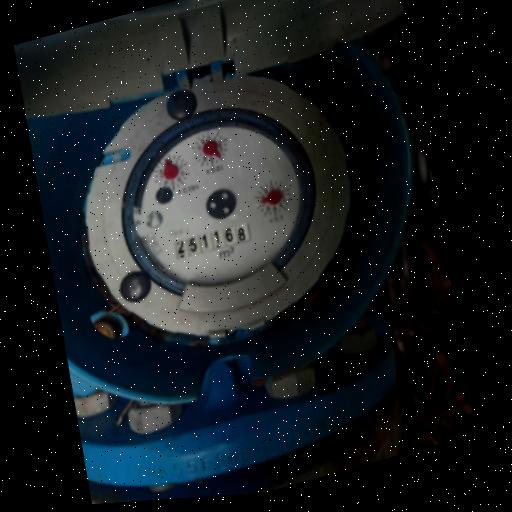1: (210, 228, 225, 248), (199, 233, 213, 252)
2: (174, 238, 190, 258)
5: (186, 234, 202, 255)
6: (223, 226, 239, 246)
8: (235, 223, 250, 243)
border_water_meter_number: (173, 219, 252, 260)
